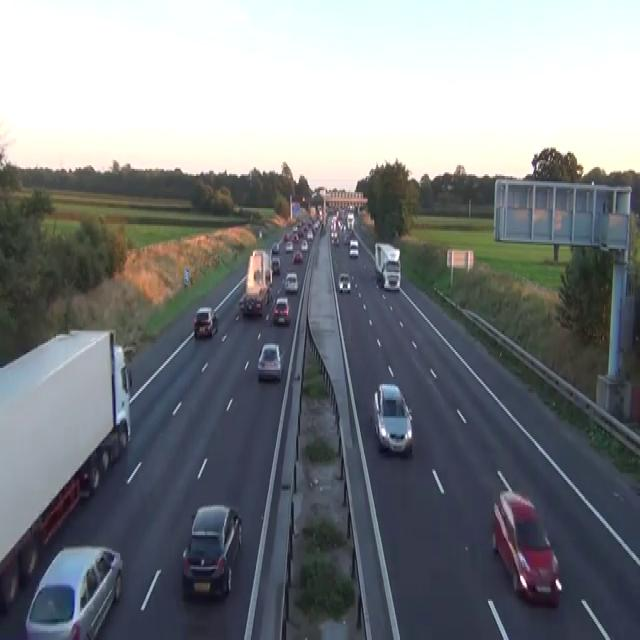Car: (25, 544, 123, 638), (491, 489, 562, 606), (181, 503, 242, 599), (372, 382, 413, 455), (257, 342, 284, 381), (193, 306, 217, 338), (383, 260, 400, 290), (272, 297, 290, 323), (243, 295, 262, 317), (284, 272, 298, 293), (338, 272, 350, 293), (348, 238, 358, 258), (271, 256, 280, 274), (238, 292, 246, 310), (292, 251, 302, 263), (343, 231, 352, 244), (265, 266, 272, 282), (300, 238, 308, 251), (285, 240, 293, 252), (331, 233, 339, 245), (271, 242, 279, 252), (306, 229, 313, 240), (313, 219, 320, 229), (319, 222, 324, 235), (283, 231, 288, 242), (292, 224, 298, 233), (292, 233, 298, 242), (258, 230, 262, 238)
Truck: (0, 327, 132, 612), (245, 249, 272, 304), (374, 242, 401, 290)
